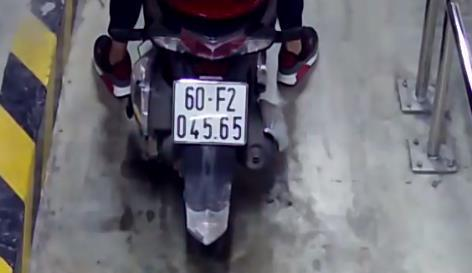lisence: (172, 78, 248, 147)
